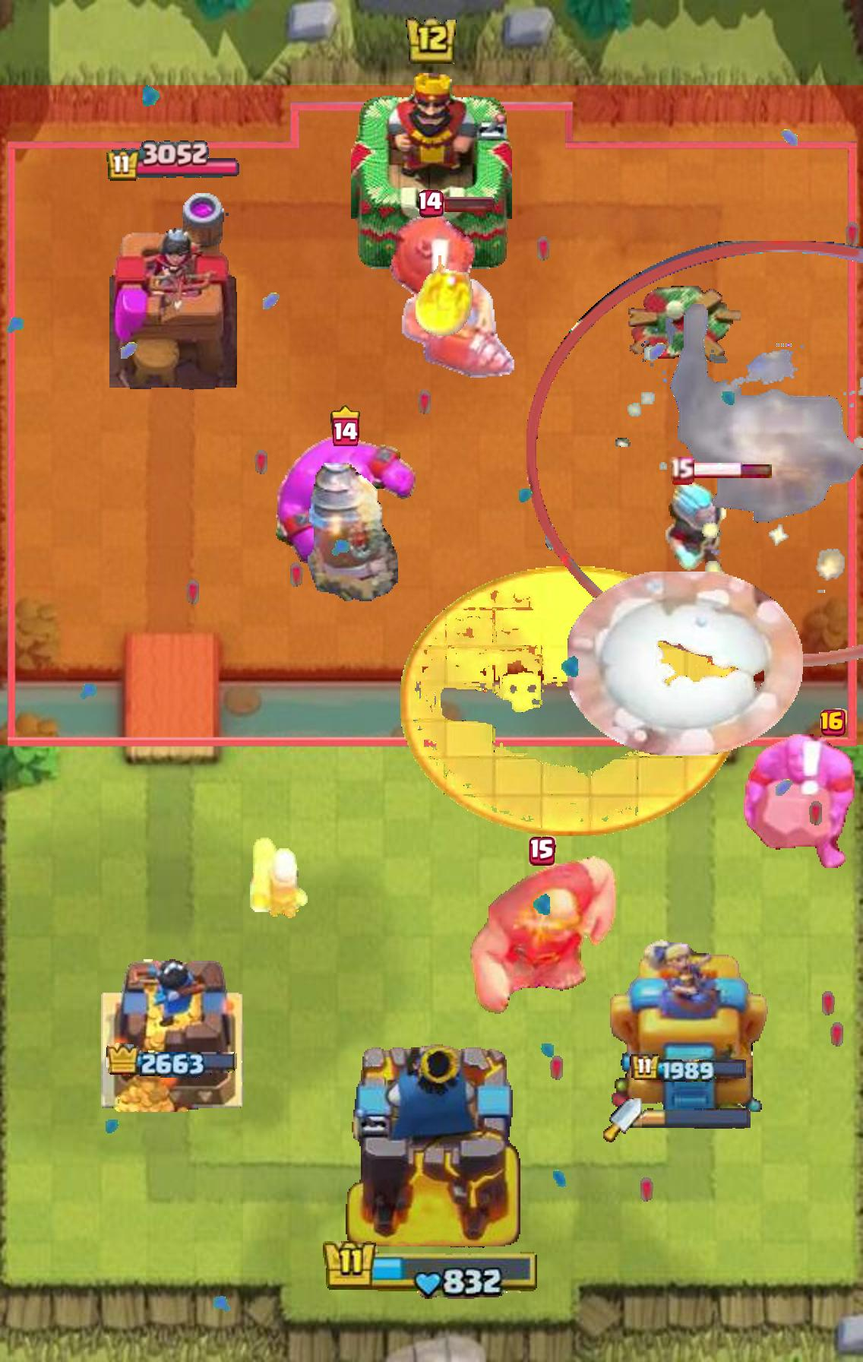bar: (691, 462, 773, 479), (441, 195, 495, 213)
bar-level: (330, 405, 360, 446), (529, 836, 556, 866), (821, 708, 847, 736), (419, 189, 444, 218), (669, 456, 694, 485)
